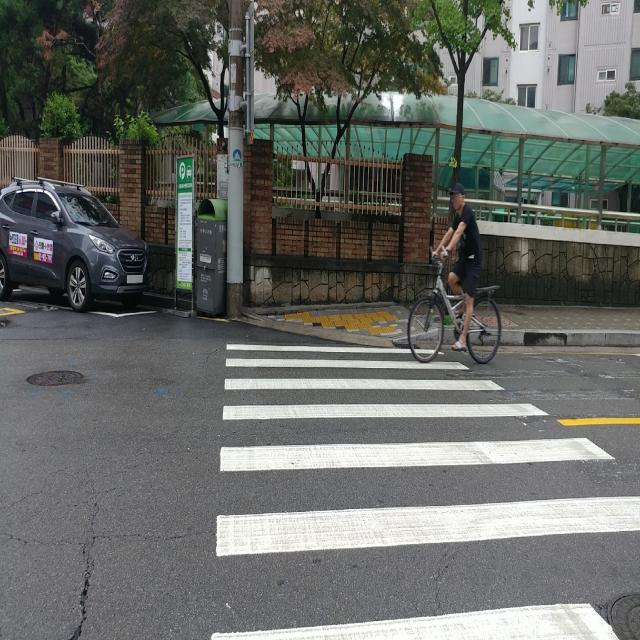횡단보도: (212, 342, 640, 639)
